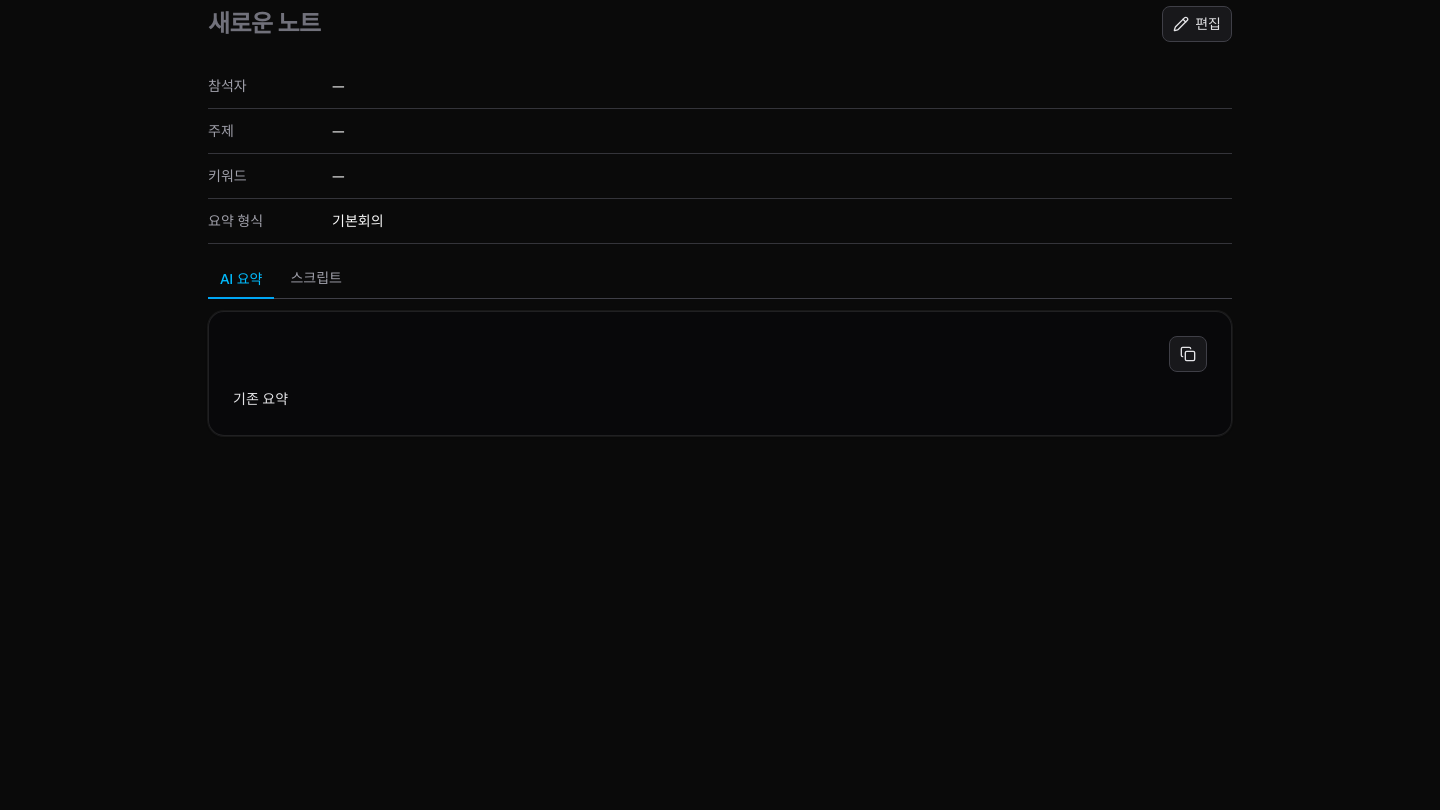
Test: SessionDetail › 요약이 있어도 편집 모달에서 현재/새 세션 재생성 버튼을 볼 수 있다
expect the text "기존 요약" is shown: met, box [233,390,288,408]
Step 1. Click the button "편집" → (1197, 24), box [1162,6,1232,42]
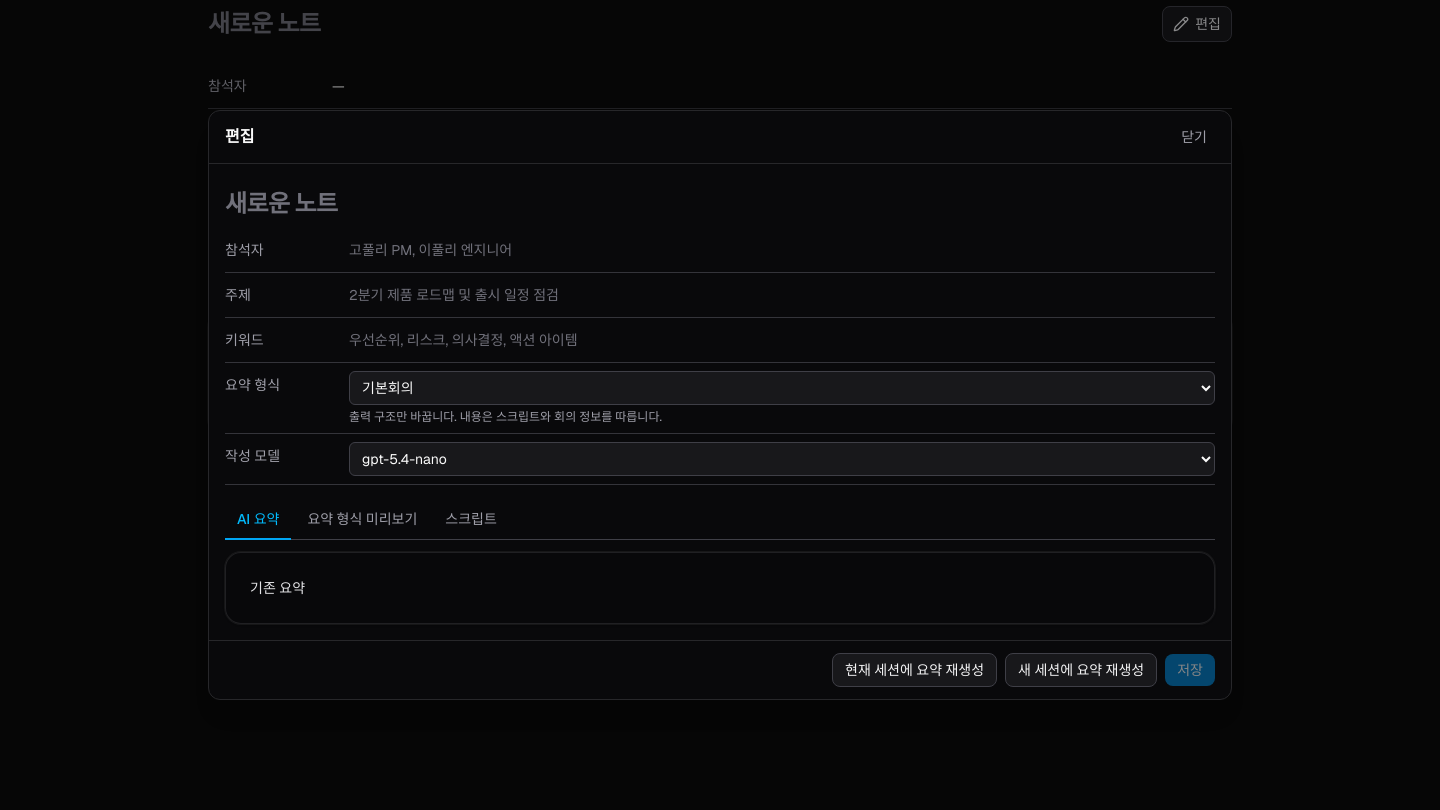
expect the dialog with test id "session-edit-dialog" is shown: met, box [208,110,1232,700]
expect the button "현재 세션에 요약 재생성" is shown: met, box [832,653,997,687]
expect the button "새 세션에 요약 재생성" is shown: met, box [1005,653,1157,687]
